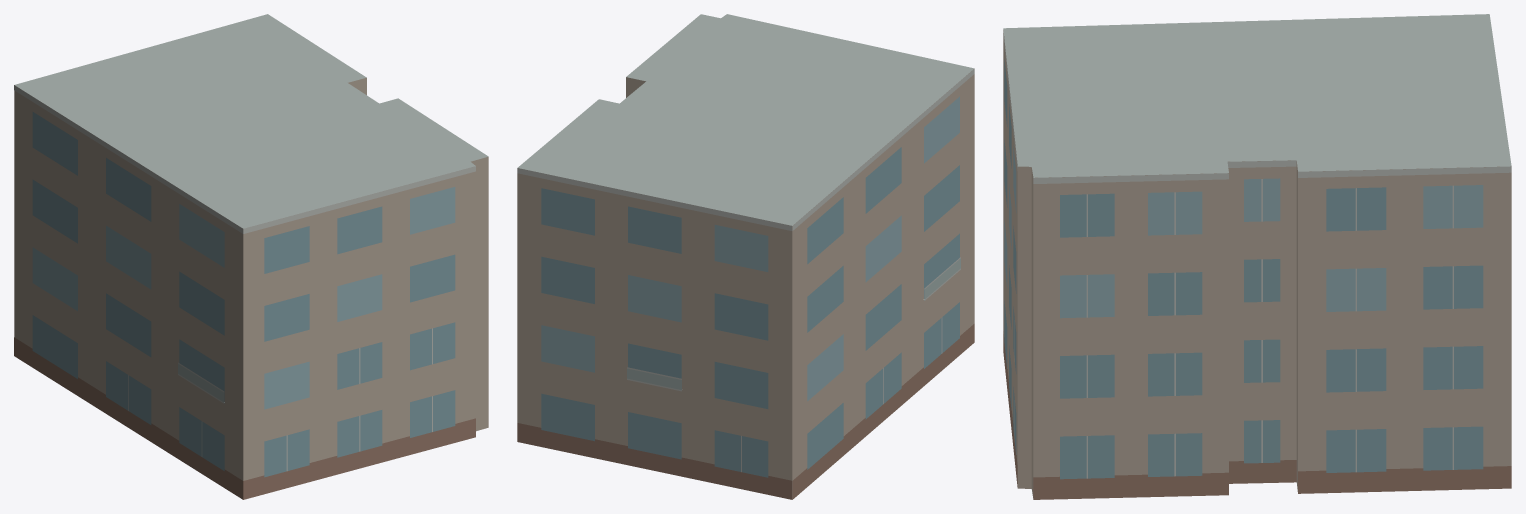
Rendered from survey-upis-32655505.glb.
3 views of the same model, side by side, from view 1: azimuth 30°, elevation 25°; view 2: azimuth 150°, elevation 25°; view 3: azimuth 270°, elevation 25° (orthographic). The views are drawn at different scales.
Parts seen in each view (by area): view 1: survey-upis-32655505.tmp; view 2: survey-upis-32655505.tmp; view 3: survey-upis-32655505.tmp.
Part boxes in pixels (box(x1,y1,x2,y2)): survey-upis-32655505.tmp: box(14, 14, 488, 499); survey-upis-32655505.tmp: box(517, 14, 974, 499); survey-upis-32655505.tmp: box(1003, 14, 1511, 499).
Bounding box in the file's own units: 13.56 × 12.42 × 17.78.
